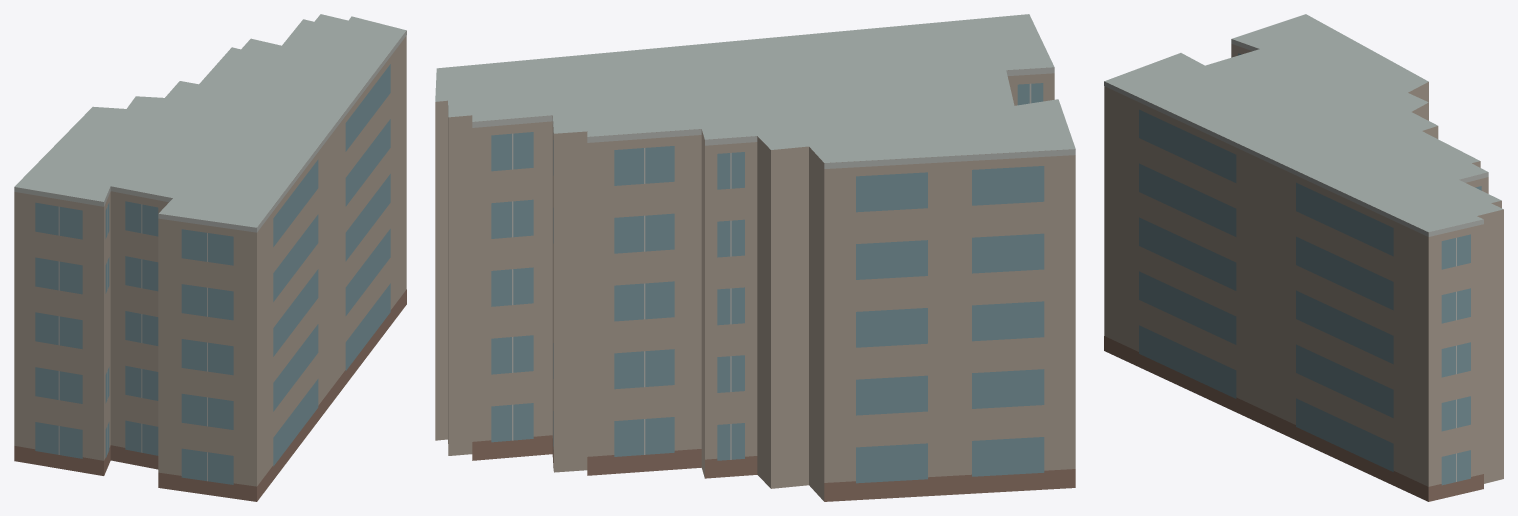
The model's file is survey-upis-32642771.glb.
3 views of the same model, side by side, from view 1: azimuth 30°, elevation 25°; view 2: azimuth 150°, elevation 25°; view 3: azimuth 270°, elevation 25° (orthographic). The views are drawn at different scales.
Visible parts, largest first — view 1: survey-upis-32642771.tmp; view 2: survey-upis-32642771.tmp; view 3: survey-upis-32642771.tmp.
Part boxes in pixels (x1=…): survey-upis-32642771.tmp: x1=14, y1=14, x2=406, y2=501; survey-upis-32642771.tmp: x1=435, y1=14, x2=1075, y2=501; survey-upis-32642771.tmp: x1=1104, y1=14, x2=1503, y2=501.
Size of the model in its own units: 23.8 by 13.7 by 18.41.
